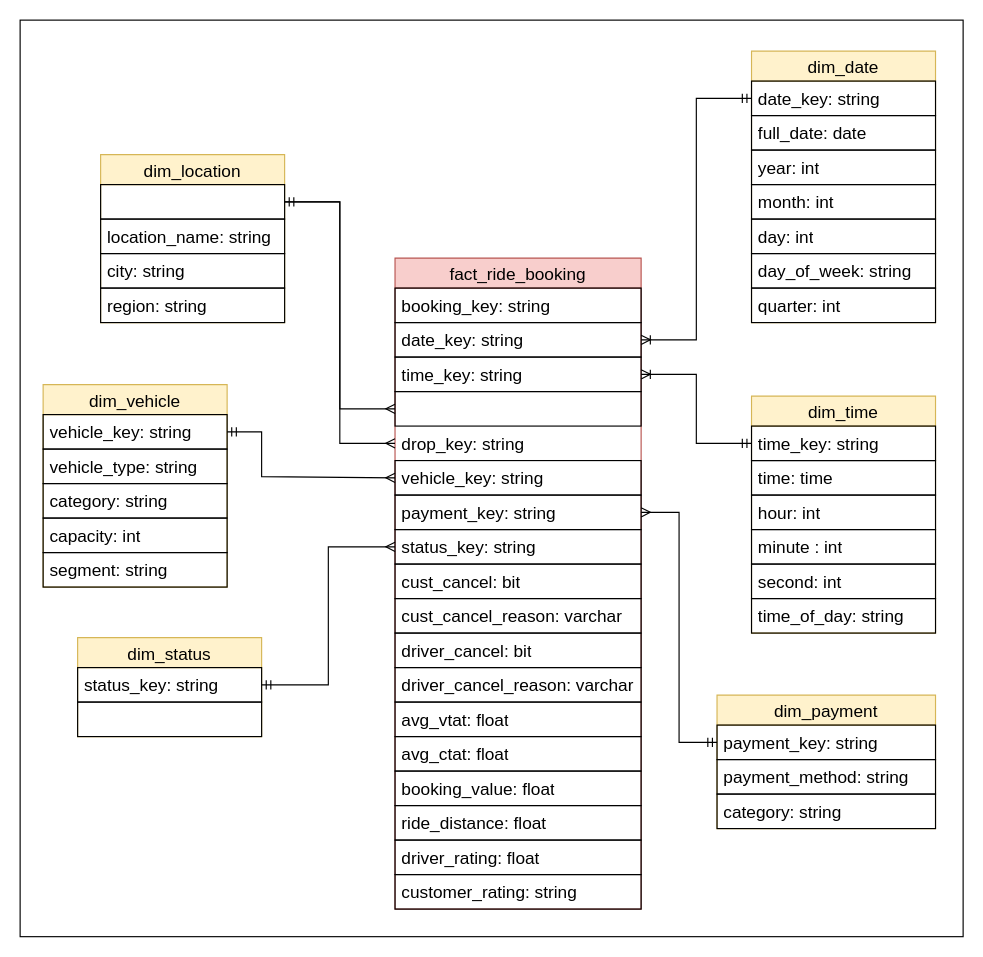
Image size: 983x957. Some labels were removed from this diagram. Here are the shapes that lost their labels. From the top down, the centre of each, then its label:
[192,201]: location_key: string
[517,408]: pickup_key: string
[169,719]: status_name: string
